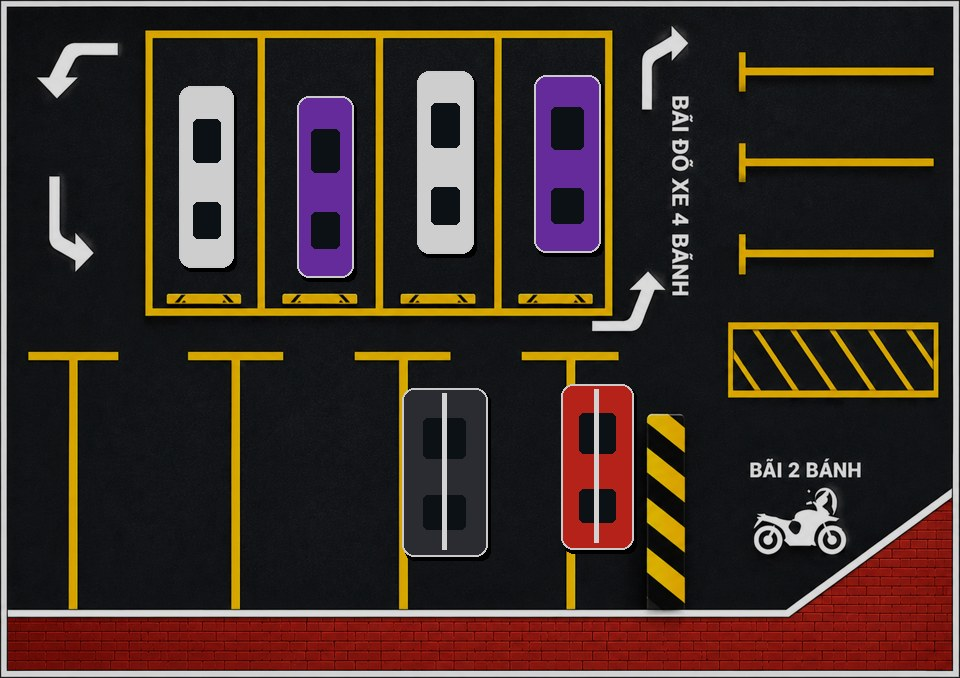empty: (35, 351, 199, 598), (201, 351, 357, 598)
occupied: (360, 351, 518, 598), (524, 351, 672, 598), (148, 35, 267, 309), (267, 35, 386, 309), (386, 35, 505, 309), (505, 35, 624, 309)
